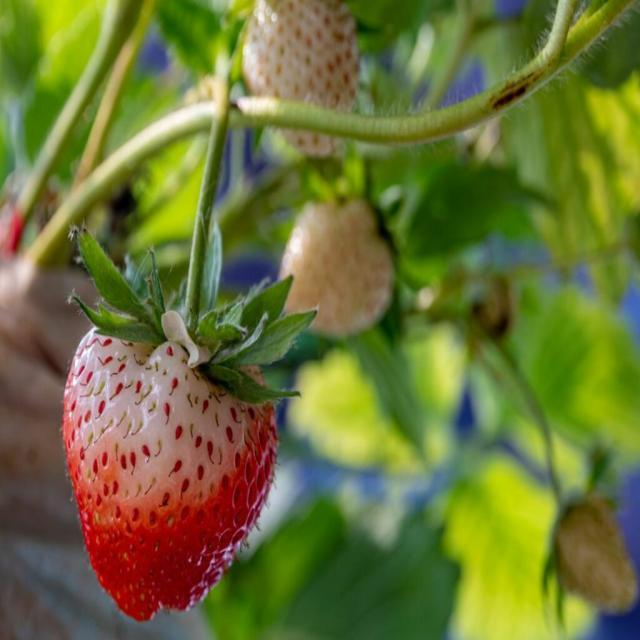strawberry: (64, 311, 277, 622), (242, 0, 356, 156), (275, 198, 395, 338), (554, 493, 636, 613)
